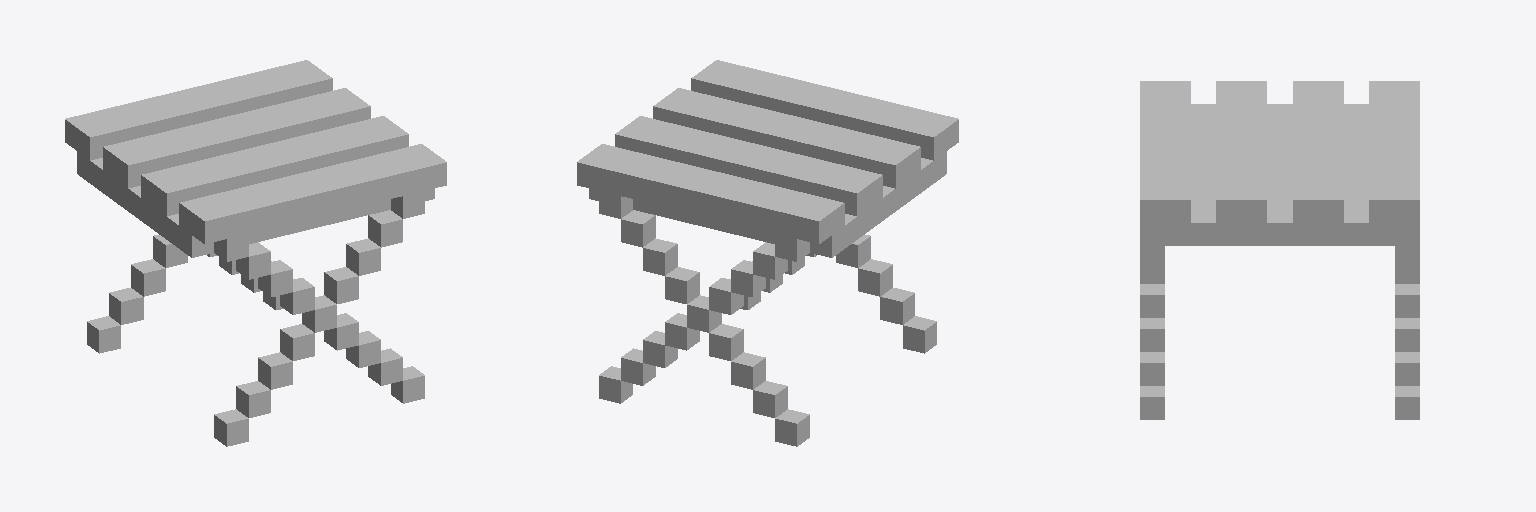
File: table.obj
3 views of the same model, side by side, from view 1: azimuth 30°, elevation 25°; view 2: azimuth 150°, elevation 25°; view 3: azimuth 270°, elevation 25° (orthographic).
Visible parts, largest first — view 1: object 1; view 2: object 1; view 3: object 1.
Boxes of the visible parts, x1,y1,x2,y2 form: object 1: [65, 60, 446, 446]; object 1: [577, 60, 958, 446]; object 1: [1140, 81, 1419, 419].
Size of the model in its own units: 1.1 by 1 by 1.1.